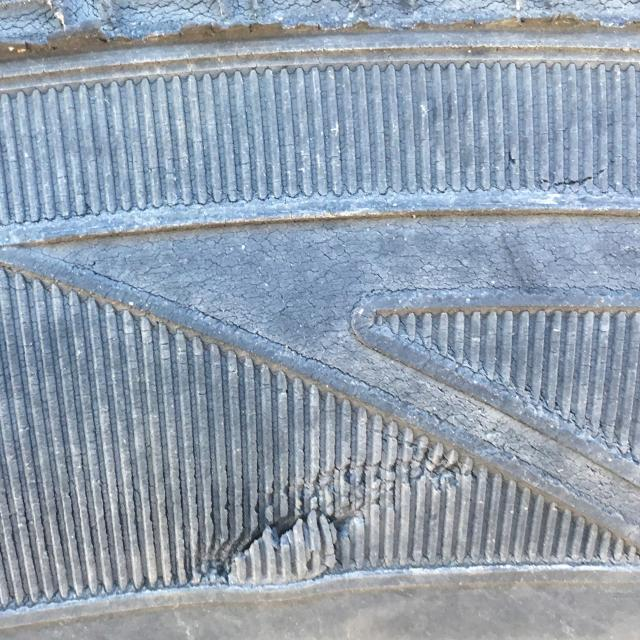Cracks: (0, 212, 640, 588), (0, 0, 640, 59)
